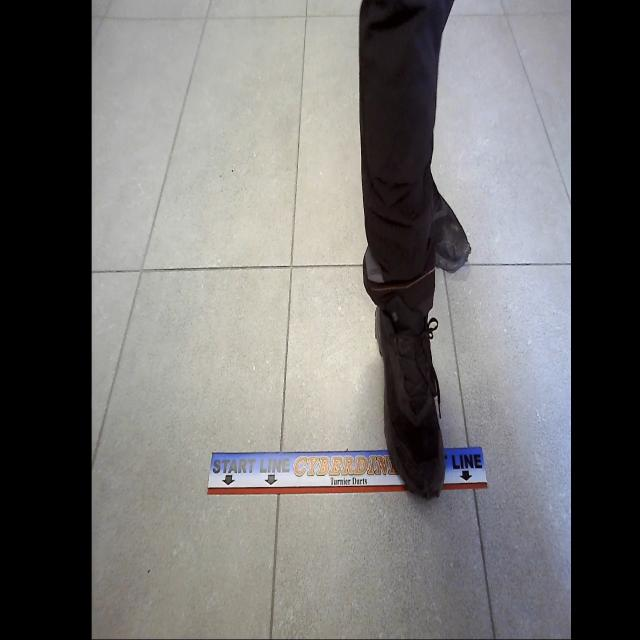foot: (372, 285, 450, 503), (427, 186, 472, 276)
